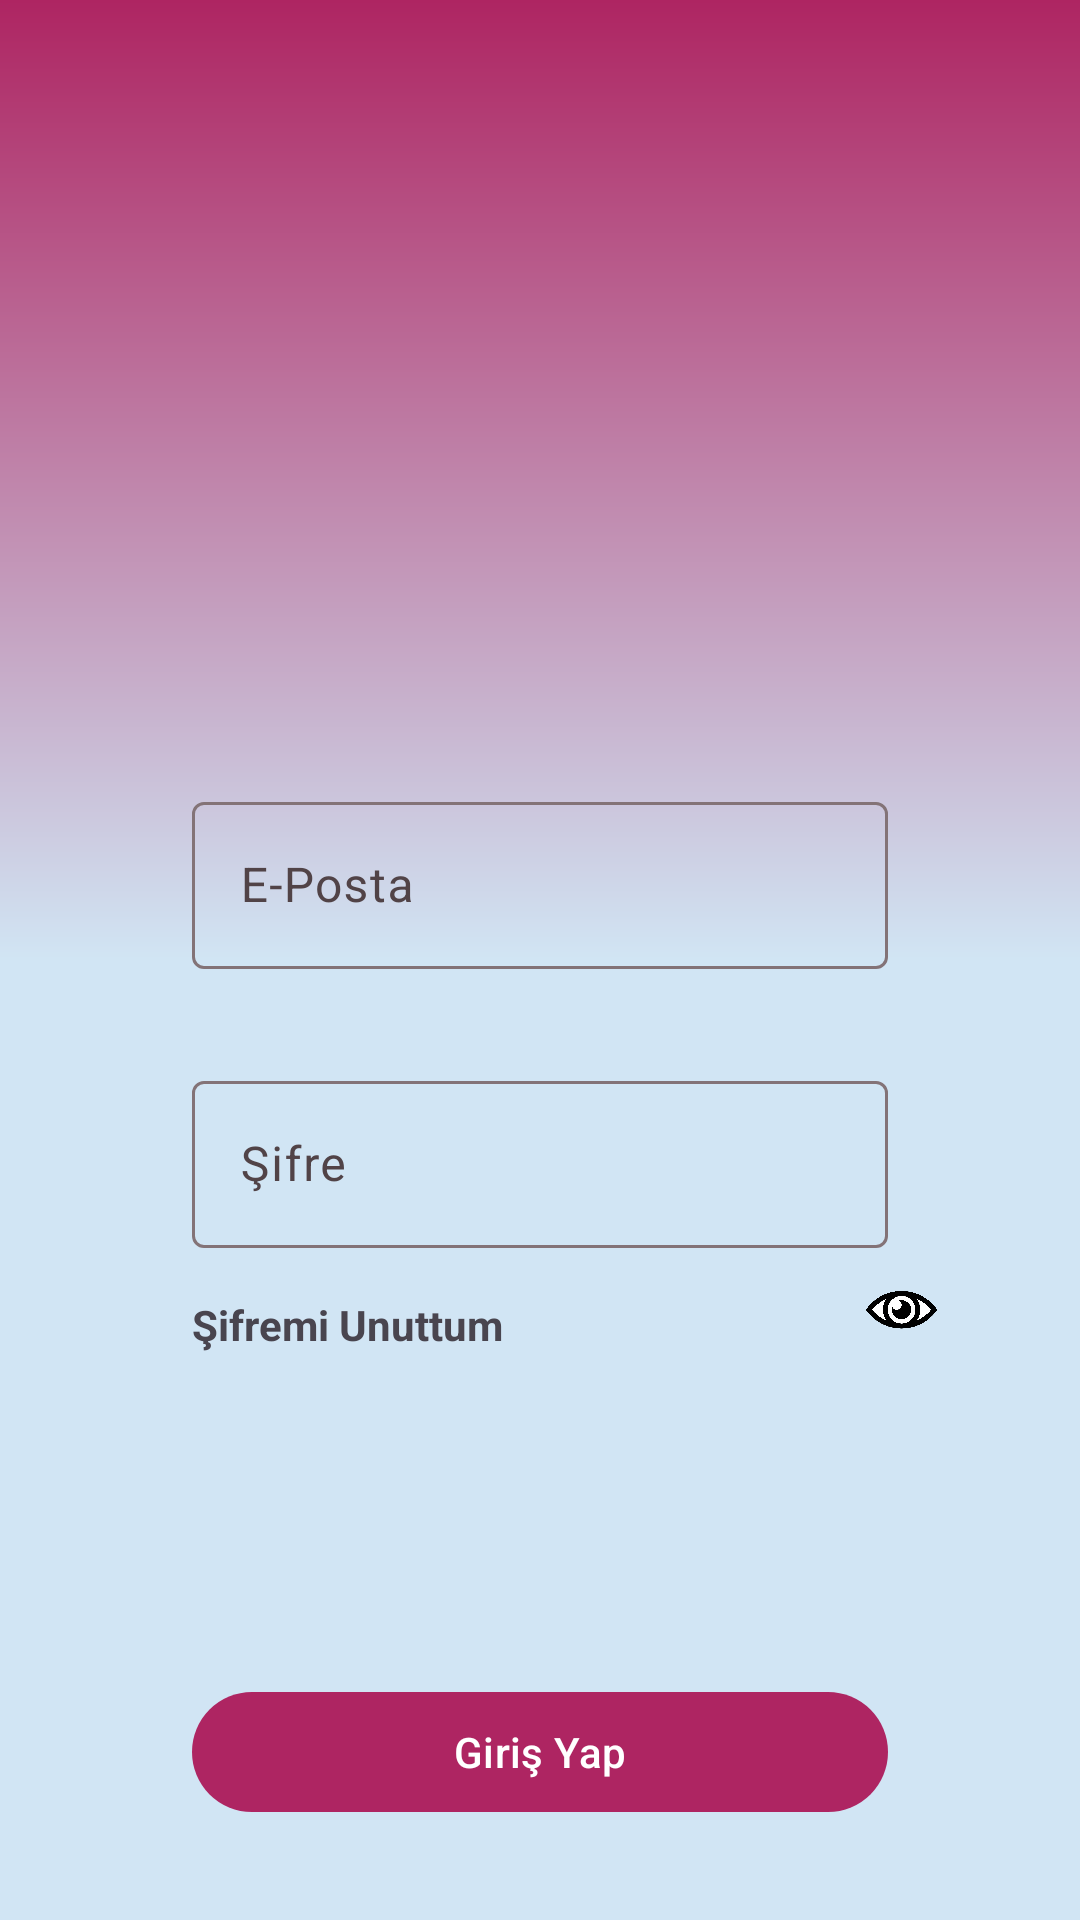

Named icons in this screenshot (1080 × 1920) and their centers, [x,y]:
eye: [901,1310]
